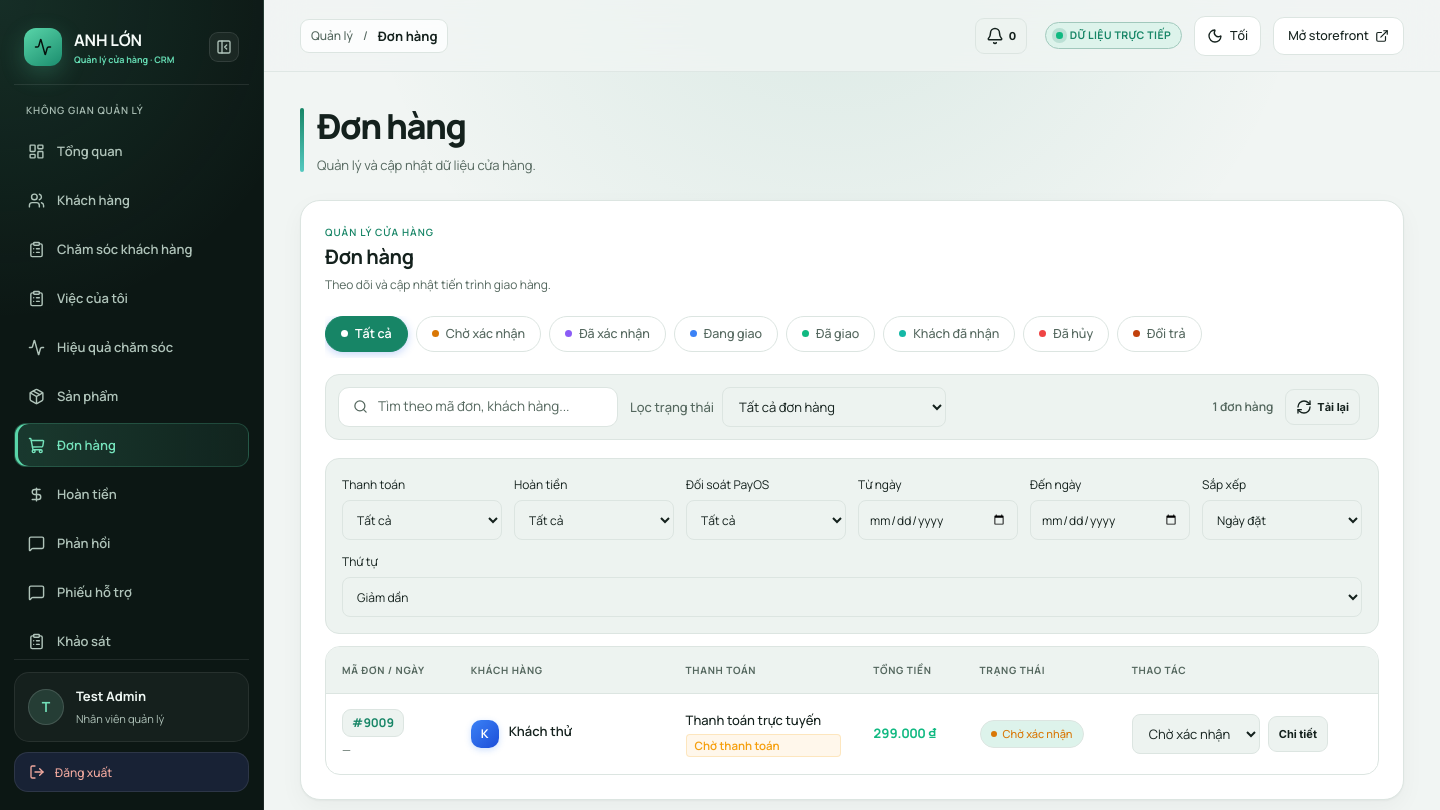
Scenario: admin navigation › shows PayOS payment state separately from order processing and can refresh it
Expected: the text named "Trạng thái thanh toán" reads "Chờ thanh toán", [695,738,780,753]
Click the button with aria-label "Tải lại trạng thái thanh toán" at (1323, 407), box [1285,389,1360,425]
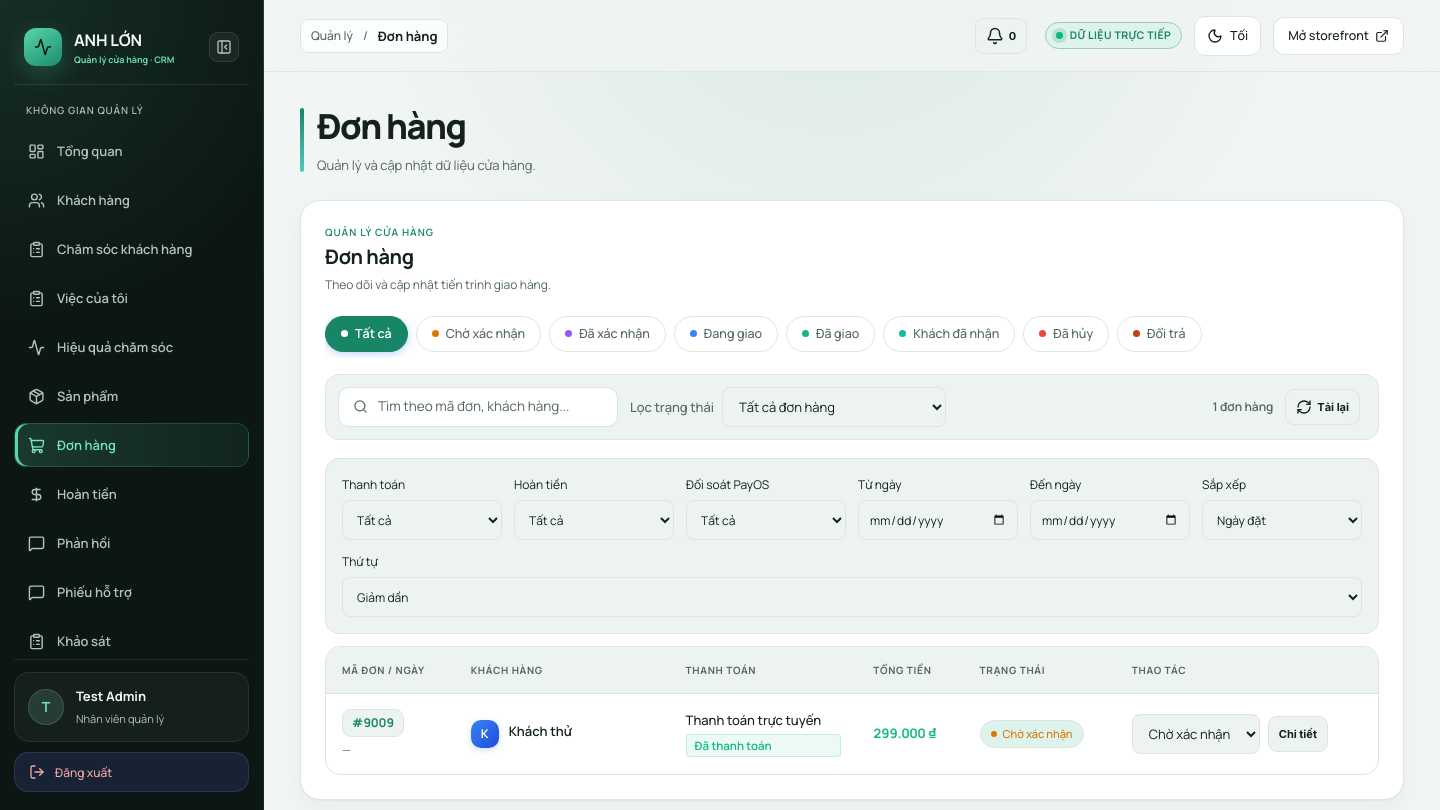
Expected: the text "Chờ xác nhận" is shown, [446,324,525,344]
Now the text named "Trạng thái thanh toán" reads "Đã thanh toán", box [695,738,772,753]
